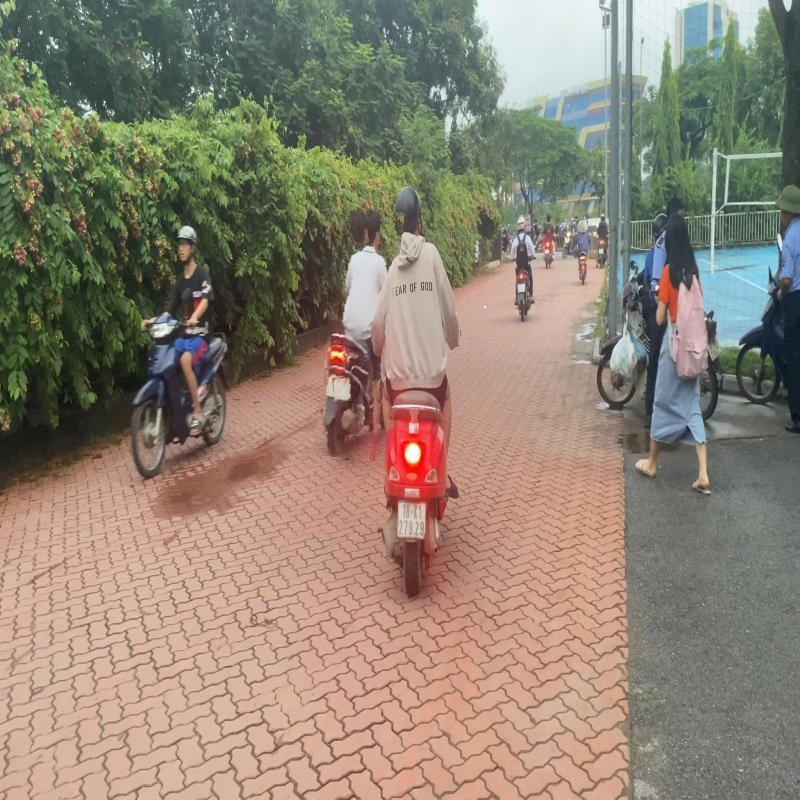licenseplate: (332, 376, 352, 403)
motorcyclist: (320, 206, 397, 461)
nohelmet: (348, 210, 368, 244)
